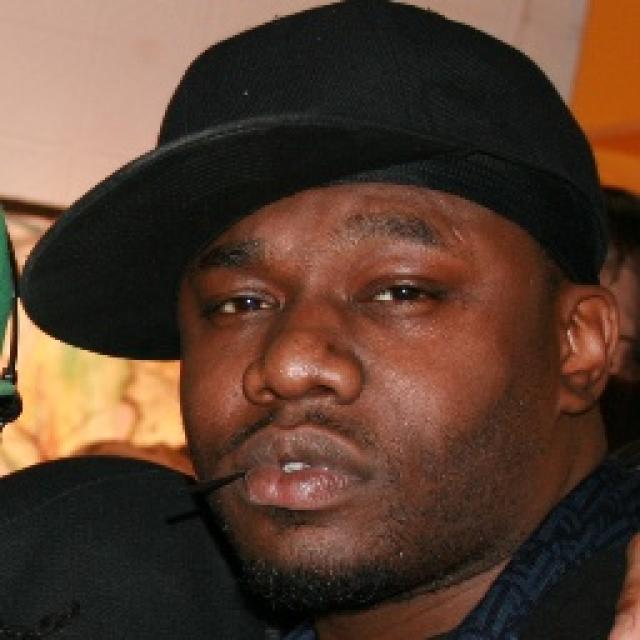earlobe: (558, 282, 623, 414)
